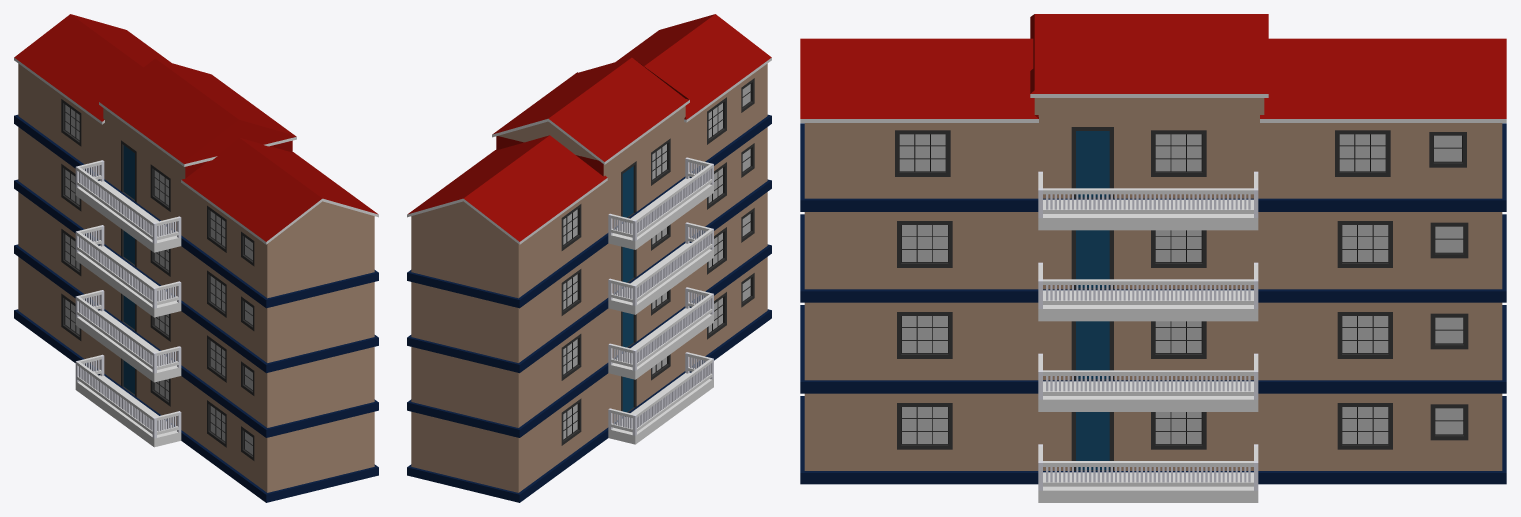
Rendered from Apartment 4.fbx.
3 renders of one model, left to right at view 1: azimuth 30°, elevation 25°; view 2: azimuth 150°, elevation 25°; view 3: azimuth 270°, elevation 25°, orthographic. The views are drawn at different scales.
Parts seen in each view (by area): view 1: building_003; view 2: building_003; view 3: building_003.
Part boxes in pixels (x1=…): building_003: x1=14, y1=14, x2=378, y2=502; building_003: x1=407, y1=14, x2=771, y2=502; building_003: x1=800, y1=14, x2=1506, y2=502.
Bounding box in the file's own units: 616 × 1089 × 1613.
